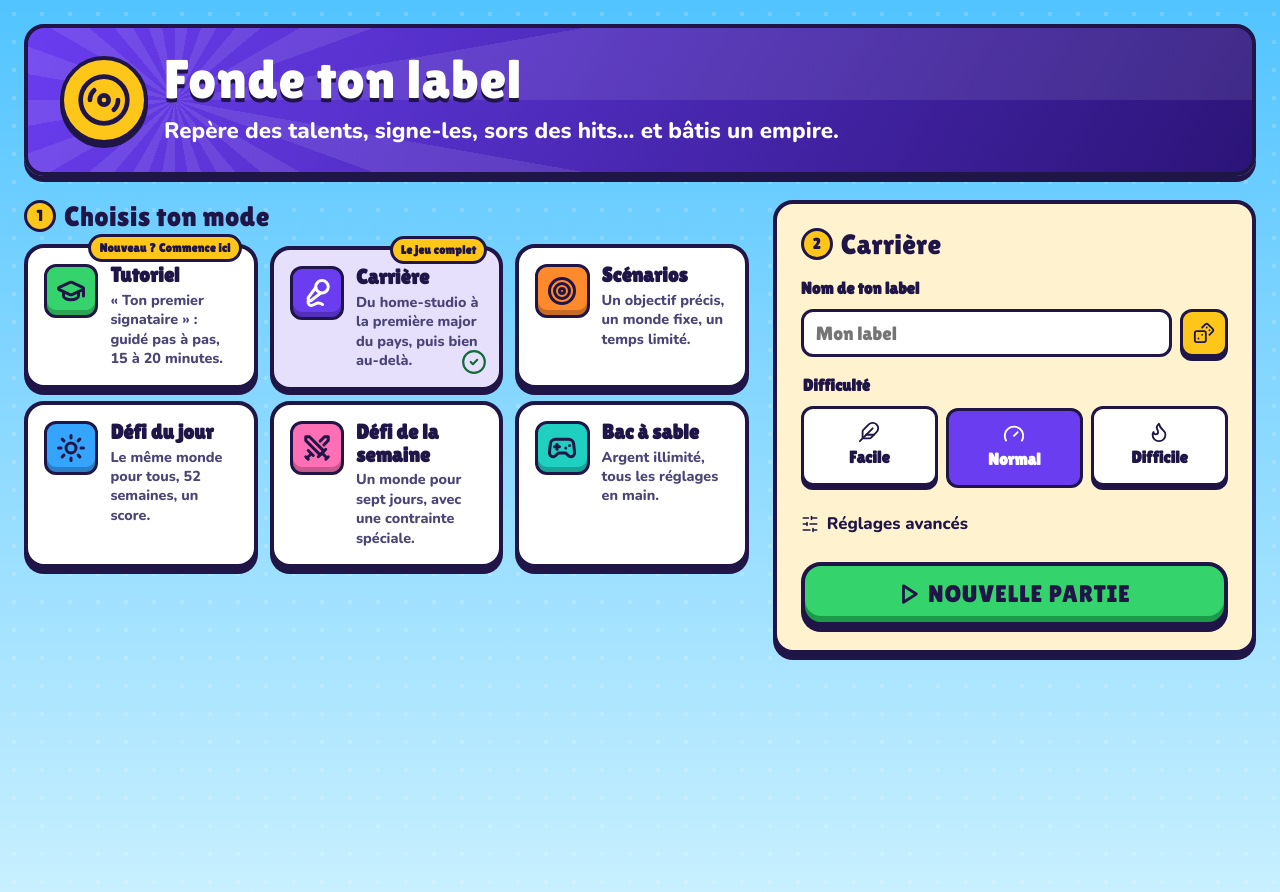
Scenario: écran Personnel › embauche un candidat, puis le licencie
The width and height of the screenshot is (1280, 892).
Click the button "Nouvelle partie" at (1014, 594), box [801,562,1228,626]
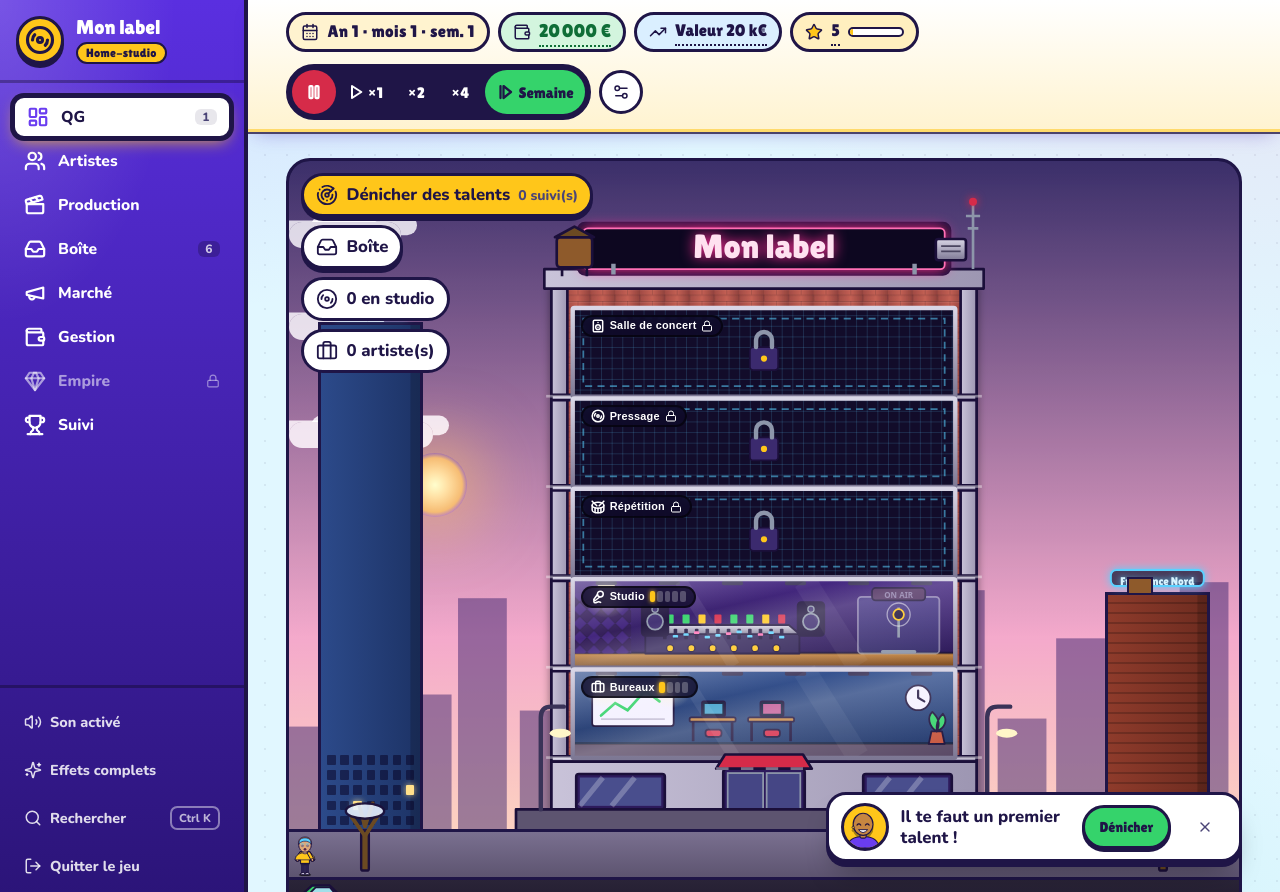
Click the button "Gestion" at (122, 337), box [12,315,232,359]
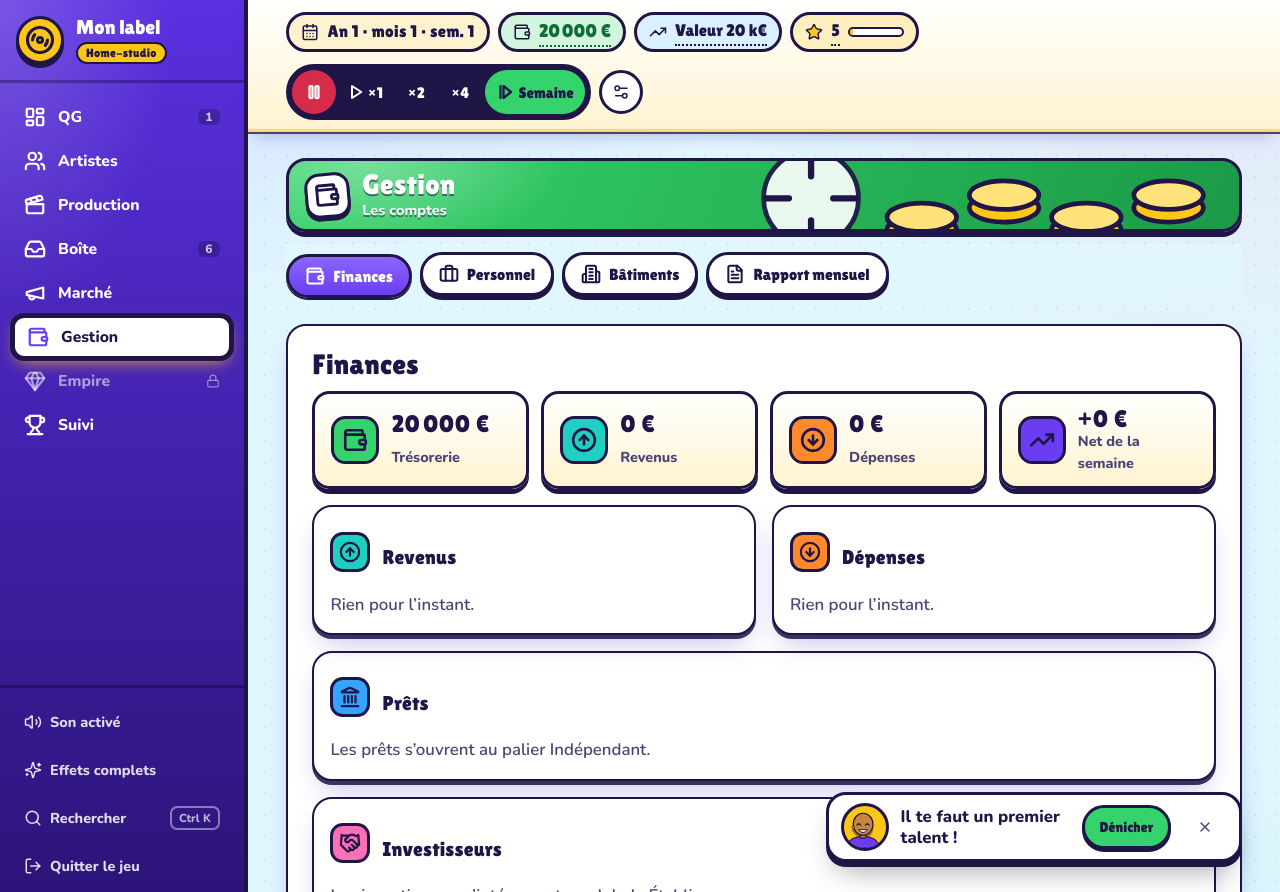
Click the tab "Personnel" at (487, 274), box [420,252,554,296]
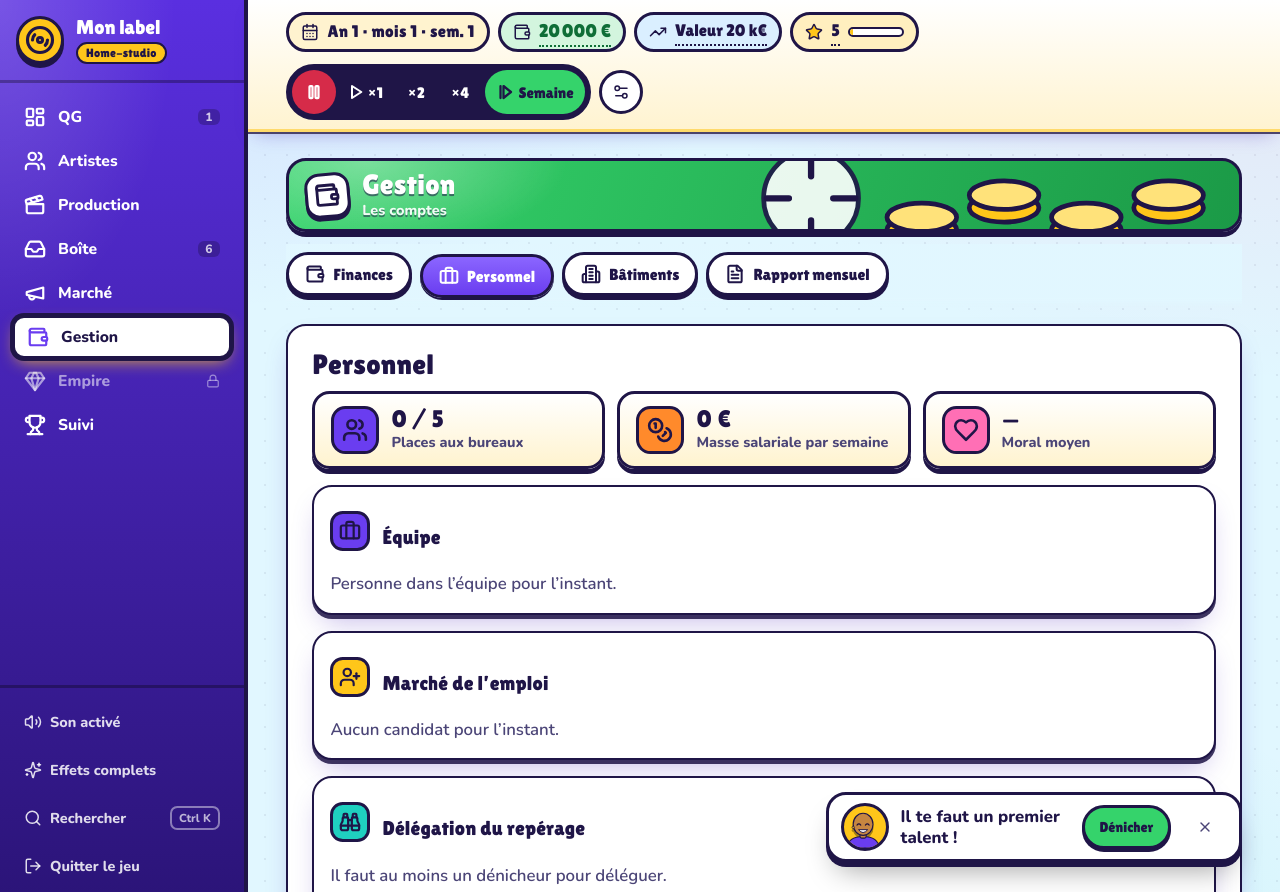
Result: the heading "Personnel" is shown at [312,348,434,380]
Result: the text "Aucun candidat pour l’instant." is shown at [330,718,559,741]
Click the button "Semaine" at (535, 92), box [485,70,585,114]
(page scrolled)
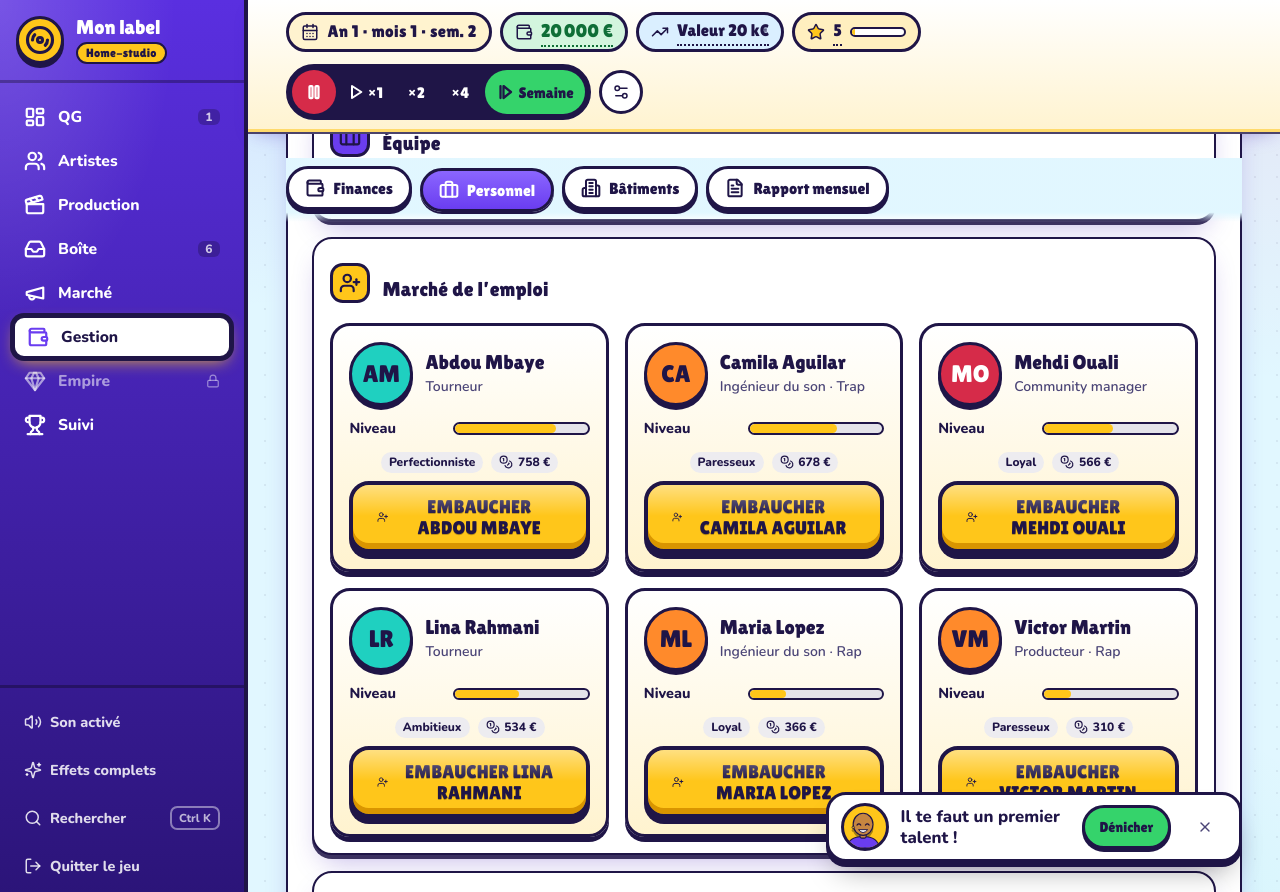
Click the button "Embaucher Abdou Mbaye" at (470, 517), box [349,481,590,553]
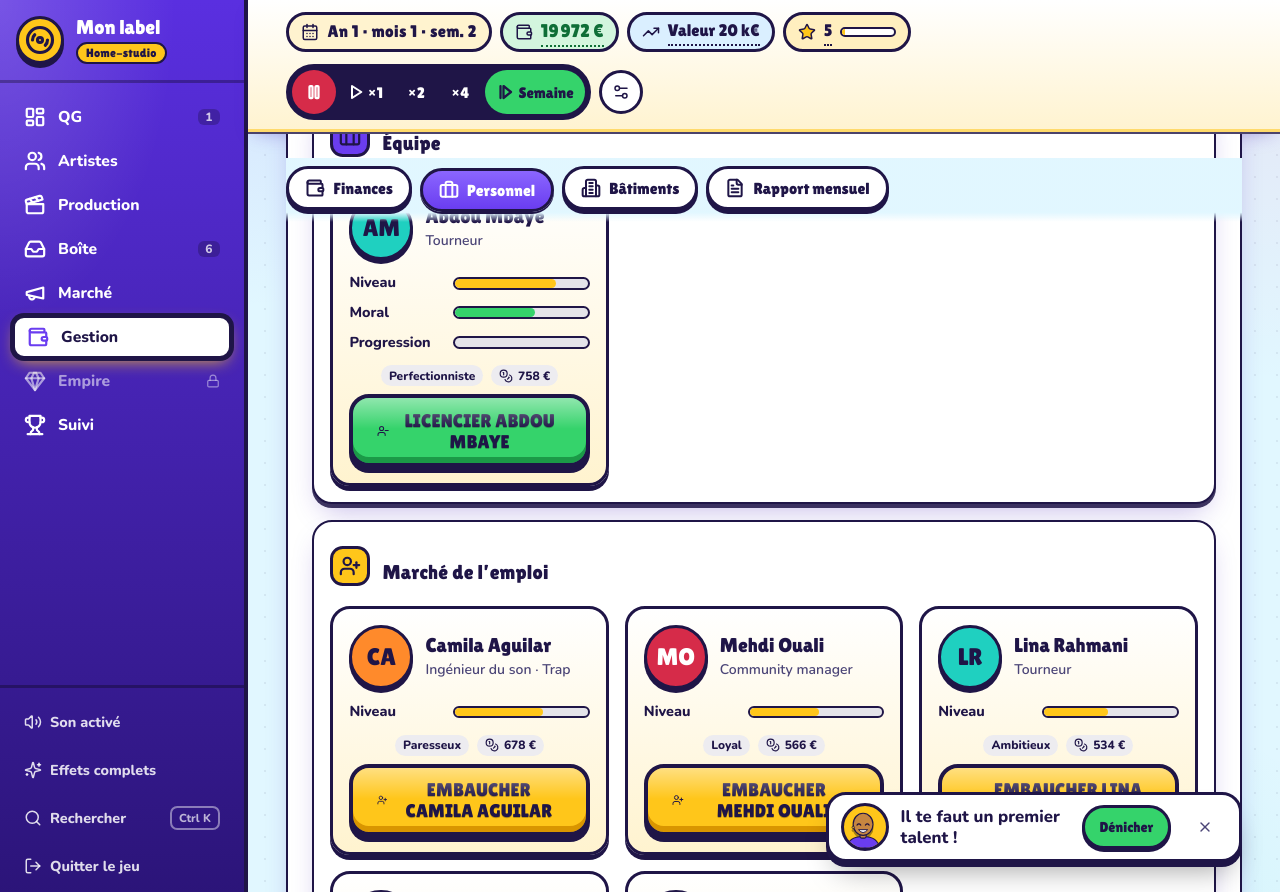
Click the button "Licencier Abdou Mbaye" at (470, 431), box [349,394,590,467]
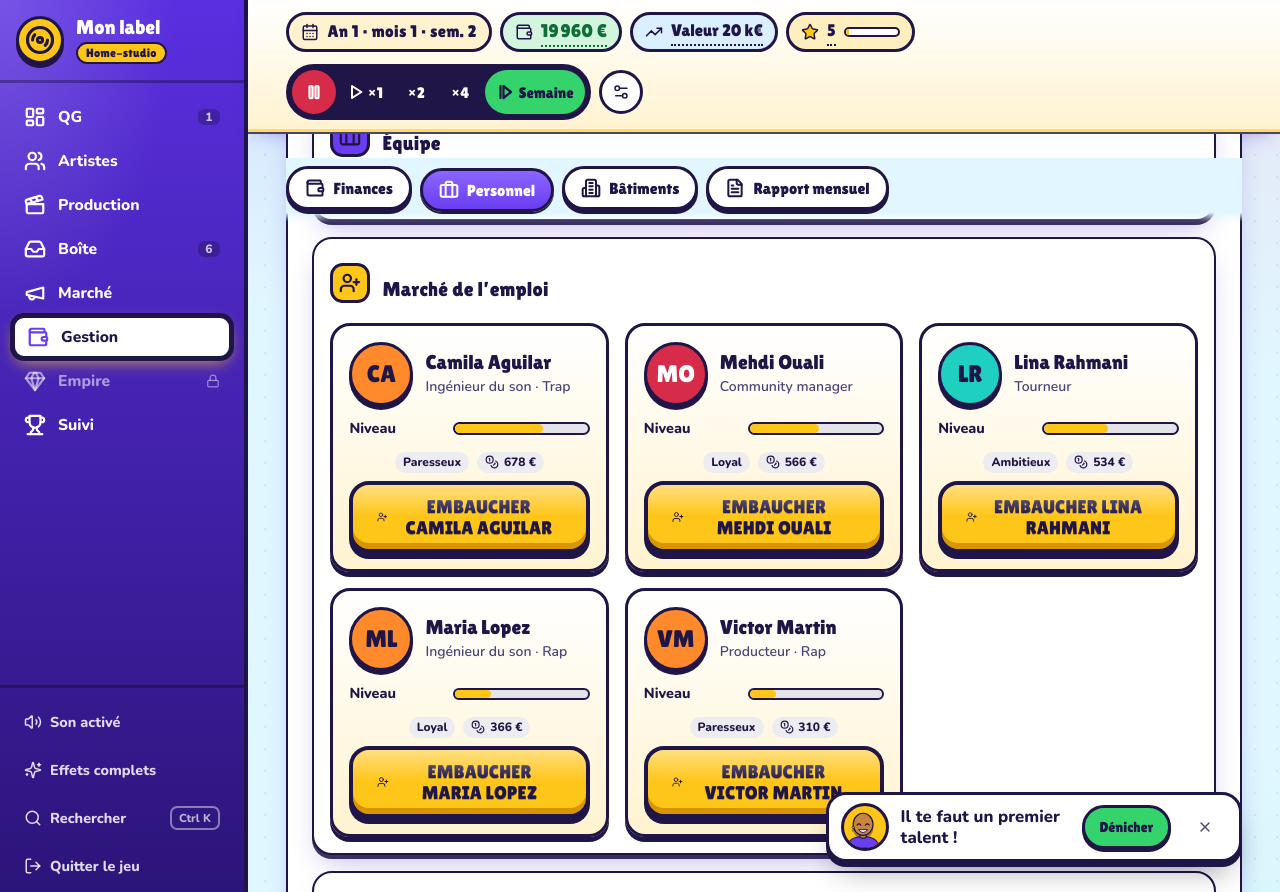
Result: the button "Licencier " is gone
